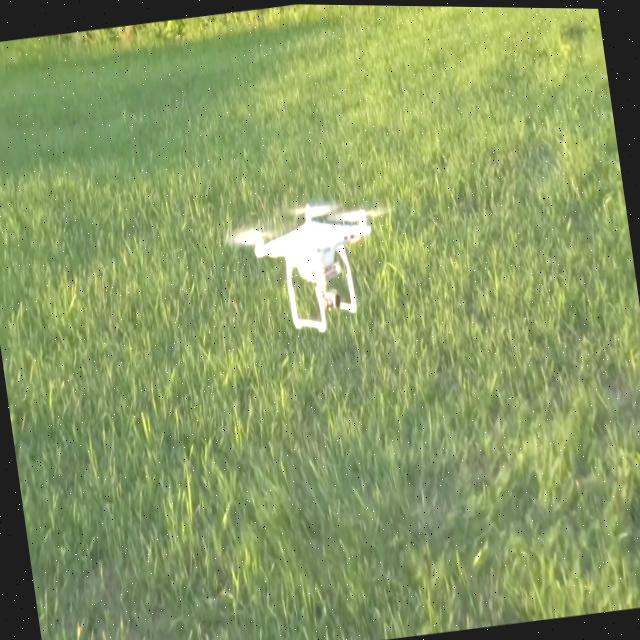drone: (240, 187, 391, 344)
